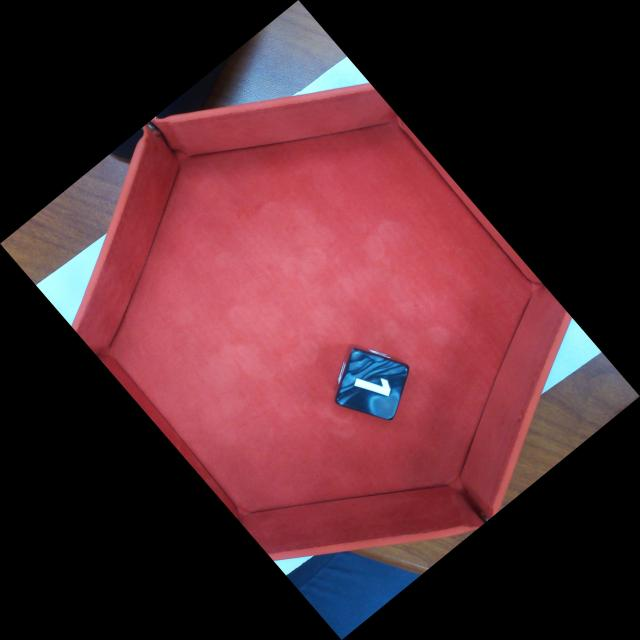dice: (334, 347, 411, 422)
